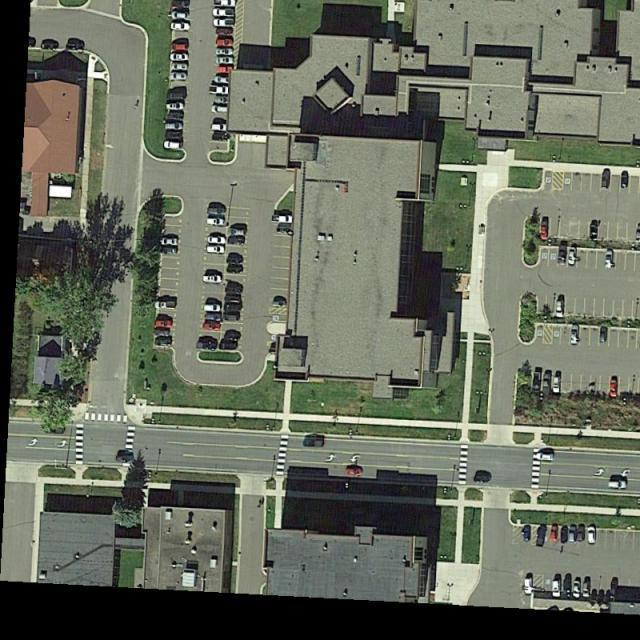vehicle: (227, 235, 246, 247), (609, 579, 619, 601), (537, 525, 547, 547), (302, 438, 324, 448), (224, 303, 243, 314), (225, 283, 244, 294), (532, 370, 541, 393), (274, 226, 294, 236), (224, 294, 242, 305), (543, 372, 551, 396), (196, 341, 217, 350), (562, 578, 571, 599), (164, 122, 185, 131), (272, 214, 293, 223), (570, 325, 579, 345), (605, 249, 614, 269), (214, 8, 234, 17), (170, 22, 189, 31), (207, 235, 226, 244), (165, 110, 184, 119), (212, 132, 231, 141), (226, 255, 245, 264), (473, 475, 494, 483), (608, 480, 626, 489), (203, 274, 221, 283), (202, 322, 220, 331), (601, 171, 610, 189), (214, 18, 234, 26), (346, 466, 362, 476), (209, 86, 229, 94), (558, 245, 567, 262), (227, 264, 244, 273), (541, 220, 549, 239), (622, 171, 630, 190), (223, 314, 242, 322), (165, 102, 184, 110), (556, 299, 564, 317), (553, 579, 561, 597), (588, 526, 596, 544), (207, 246, 225, 254), (155, 337, 171, 346), (214, 75, 230, 84), (216, 57, 234, 65), (211, 123, 227, 132), (116, 455, 136, 462), (537, 453, 554, 461), (573, 581, 581, 598), (590, 222, 598, 239), (204, 304, 221, 312), (220, 342, 237, 350), (164, 141, 181, 149), (166, 132, 183, 140), (599, 327, 608, 342), (230, 227, 245, 236), (271, 298, 286, 307), (568, 247, 575, 266), (170, 54, 189, 61), (156, 302, 175, 309), (553, 377, 561, 393), (209, 207, 225, 215), (207, 218, 223, 226), (214, 95, 230, 103), (161, 237, 177, 245), (216, 48, 232, 56), (212, 106, 228, 114), (561, 526, 568, 544), (224, 332, 242, 339), (206, 313, 220, 322), (217, 38, 231, 47), (582, 582, 590, 597), (173, 11, 188, 19), (569, 525, 575, 545), (610, 380, 617, 397), (578, 525, 585, 542), (213, 1, 236, 6), (525, 578, 532, 594), (551, 526, 558, 542), (523, 526, 530, 542), (172, 63, 188, 70), (156, 320, 172, 327), (162, 247, 176, 255), (217, 27, 231, 35), (167, 93, 185, 99), (171, 73, 186, 80), (172, 1, 190, 6), (217, 66, 232, 72), (172, 44, 186, 50), (636, 225, 640, 240), (638, 582, 640, 601)
